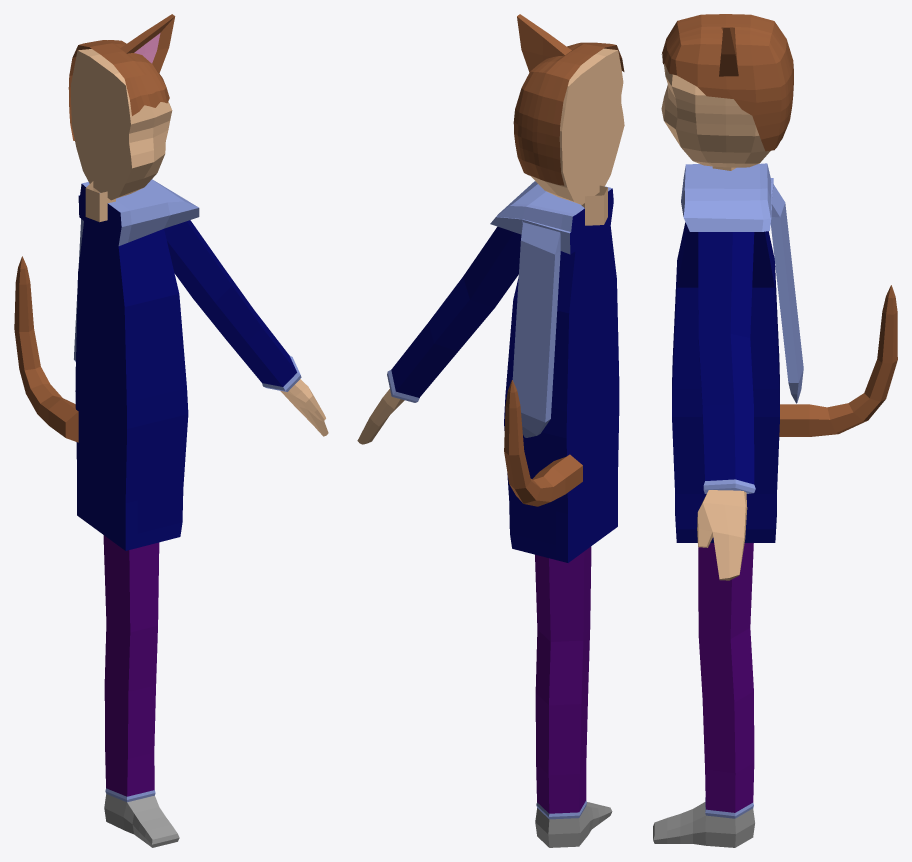
The model's file is sange_low_poly.glb.
The picture shows the model from 3 angles, left to right: view 1: azimuth 30°, elevation 25°; view 2: azimuth 150°, elevation 25°; view 3: azimuth 270°, elevation 25°; orthographic projection. The views are drawn at different scales.
Parts seen in each view (by area): view 1: Cube, Cylinder, Cube.001, Cylinder.001, Cylinder.003, Cube.002, Cube.004, Cylinder.002; view 2: Cube, Cylinder, Cylinder.001, Cube.001, Cube.002, Cylinder.003, Cube.004, Cylinder.002; view 3: Cube, Cylinder.001, Cylinder, Cube.002, Cube.001, Cylinder.003, Cube.004.
Boxes of the visible parts, <box> form: Cube: <box>74,179,199,550</box>; Cylinder: <box>103,535,179,847</box>; Cube.001: <box>71,49,172,200</box>; Cylinder.001: <box>164,220,328,436</box>; Cylinder.003: <box>14,256,78,442</box>; Cube.002: <box>68,40,169,140</box>; Cube.004: <box>120,14,175,73</box>; Cylinder.002: <box>85,181,115,222</box>; Cube: <box>490,181,619,562</box>; Cylinder: <box>535,546,612,847</box>; Cylinder.001: <box>357,226,521,444</box>; Cube.001: <box>531,48,624,204</box>; Cube.002: <box>513,42,624,185</box>; Cylinder.003: <box>504,380,582,506</box>; Cube.004: <box>517,14,571,72</box>; Cylinder.002: <box>581,185,607,225</box>; Cube: <box>672,163,803,542</box>; Cylinder.001: <box>697,232,755,580</box>; Cylinder: <box>653,543,754,847</box>; Cube.002: <box>661,14,793,151</box>; Cube.001: <box>661,63,770,167</box>; Cylinder.003: <box>779,285,897,436</box>; Cube.004: <box>719,27,738,76</box>.
Size of the model in its own units: 0.8752 by 2.8 by 0.7456.
